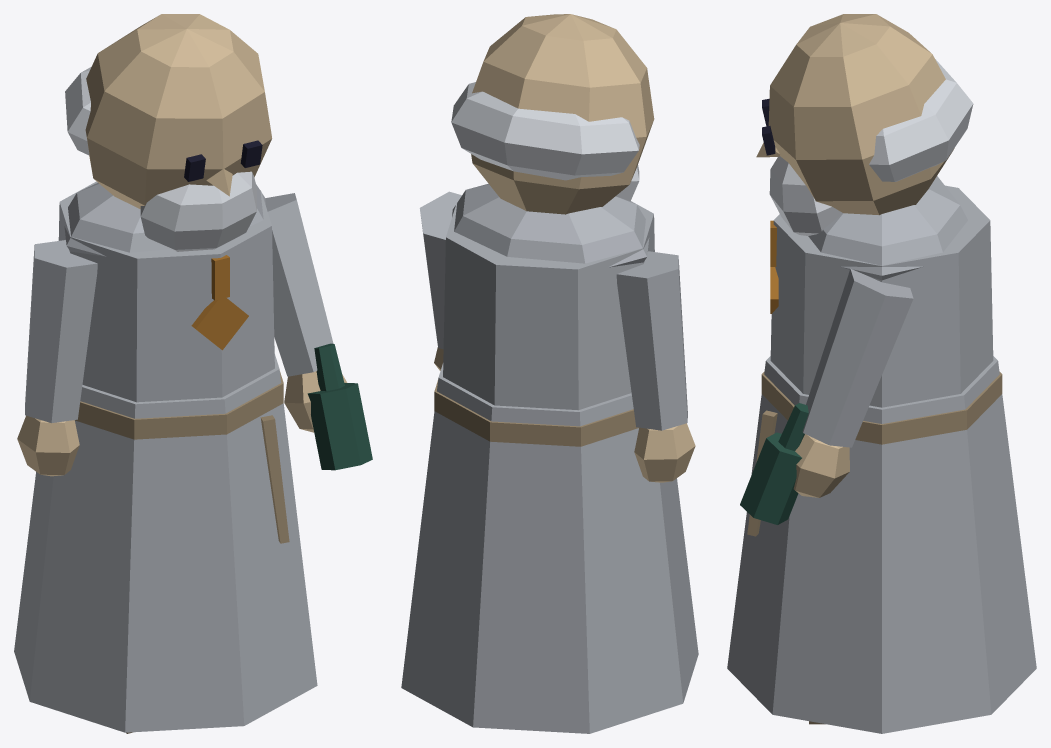
The model's file is aldous.glb.
3 views of the same model, side by side, from view 1: azimuth 30°, elevation 25°; view 2: azimuth 150°, elevation 25°; view 3: azimuth 270°, elevation 25° (orthographic). The views are drawn at different scales.
Visible parts, largest first — view 1: Torso, Head, ArmL, ArmR; view 2: Torso, Head, ArmR, ArmL; view 3: Torso, Head, ArmL.
Boxes of the visible parts, x1=… form: Torso: x1=14, y1=181, x2=317, y2=732; Head: x1=65, y1=14, x2=272, y2=251; ArmL: x1=265, y1=193, x2=372, y2=470; ArmR: x1=17, y1=240, x2=97, y2=476; Torso: x1=401, y1=183, x2=698, y2=733; Head: x1=451, y1=14, x2=654, y2=214; ArmR: x1=616, y1=251, x2=695, y2=482; ArmL: x1=419, y1=191, x2=461, y2=370; Torso: x1=727, y1=176, x2=1036, y2=733; Head: x1=756, y1=14, x2=973, y2=235; ArmL: x1=740, y1=268, x2=913, y2=524.
Bounding box in the file's own units: 0.7544 × 1.71 × 0.72.
